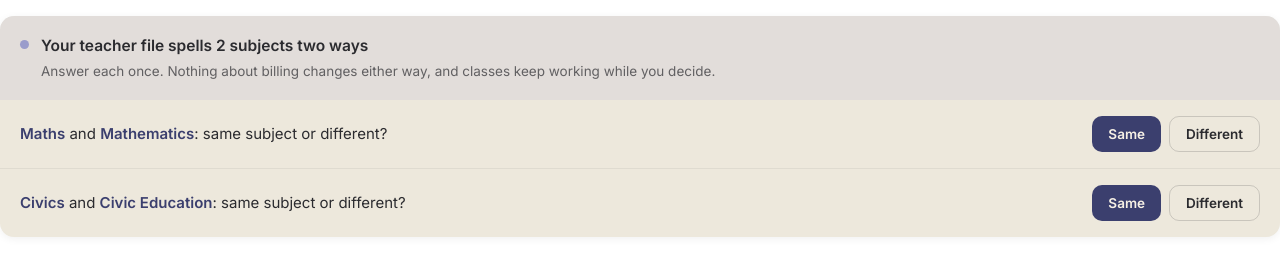
it: subject spellings › settles Different as two subjects, as the school wrote them
The image size is (1280, 259).
Expected: the heading "Your teacher file spells 2 subjects two ways" is shown, x1=41 y1=36 x2=368 y2=55
Click the button "Different" in the row of "Civics" at (1214, 203), box x1=1169 y1=185 x2=1260 y2=221
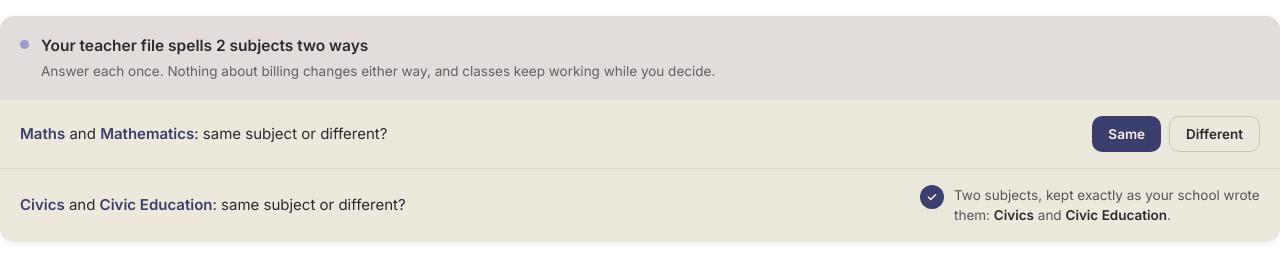
Expected: the list item "Civics" shows "Two subjects, kept exactly as your school wrote them: Civics and Civic Education.", x1=20 y1=185 x2=1260 y2=224
